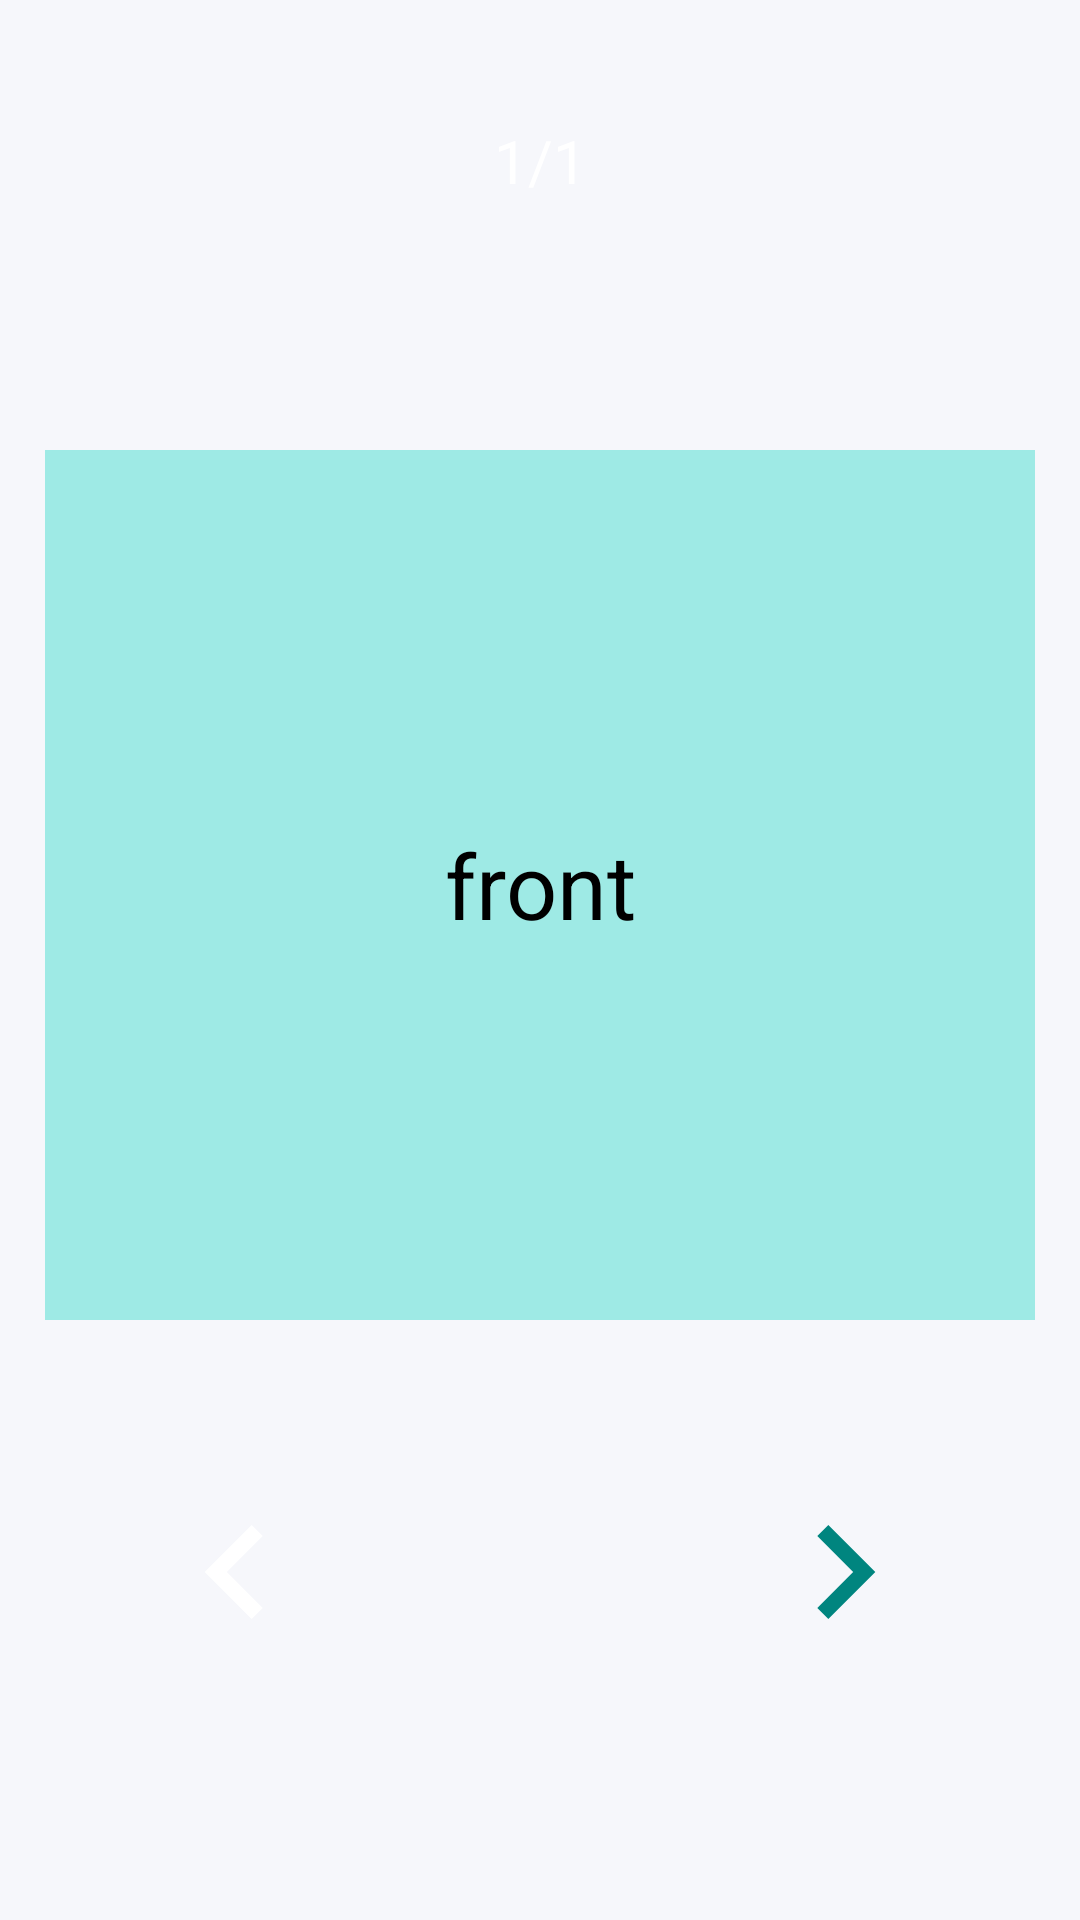

Point at icon controls on the screen. Image size 1080px x 1920px, points as point (x, y).
right arrow: point (846, 1572)
